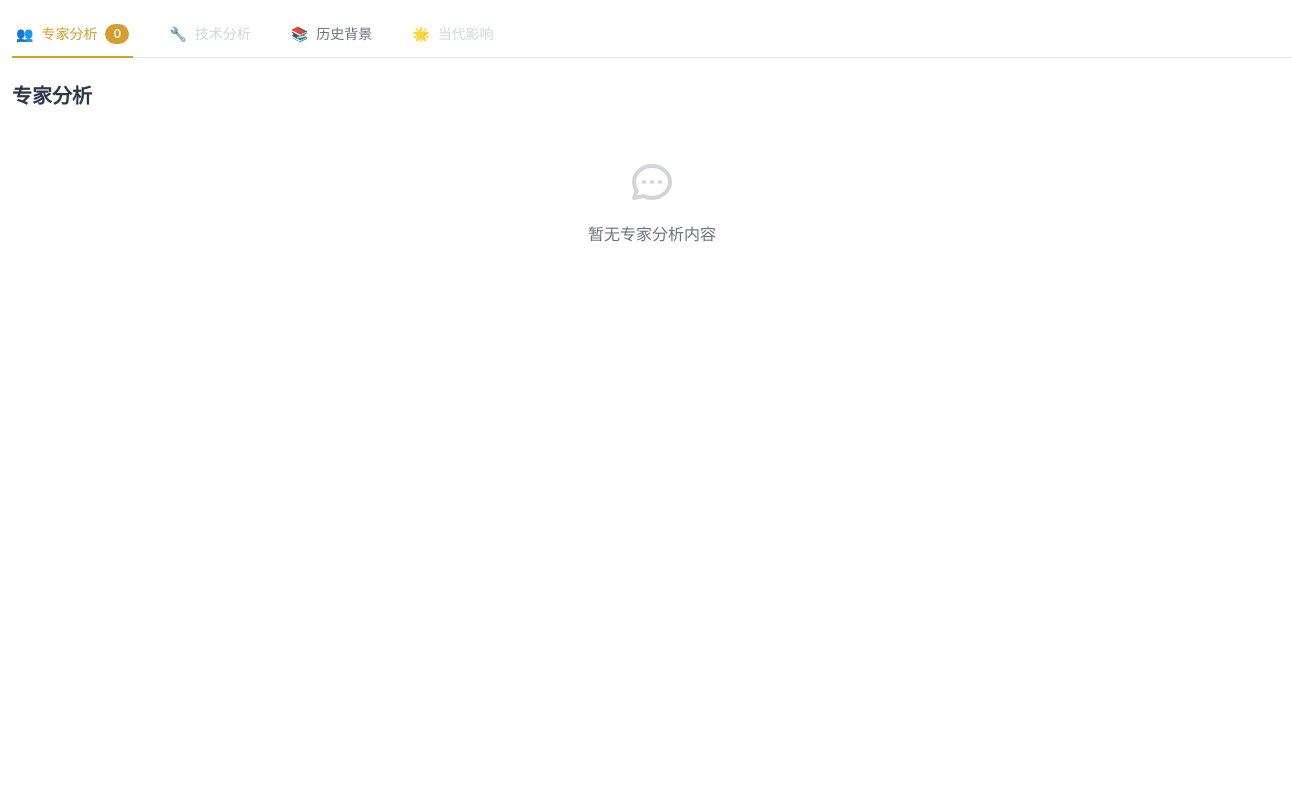
Test: ExpertCommentary › Historical Context Display › renders historical context when provided
Click the text "历史背景" at point(344, 34), box 316,24 -> 372,44
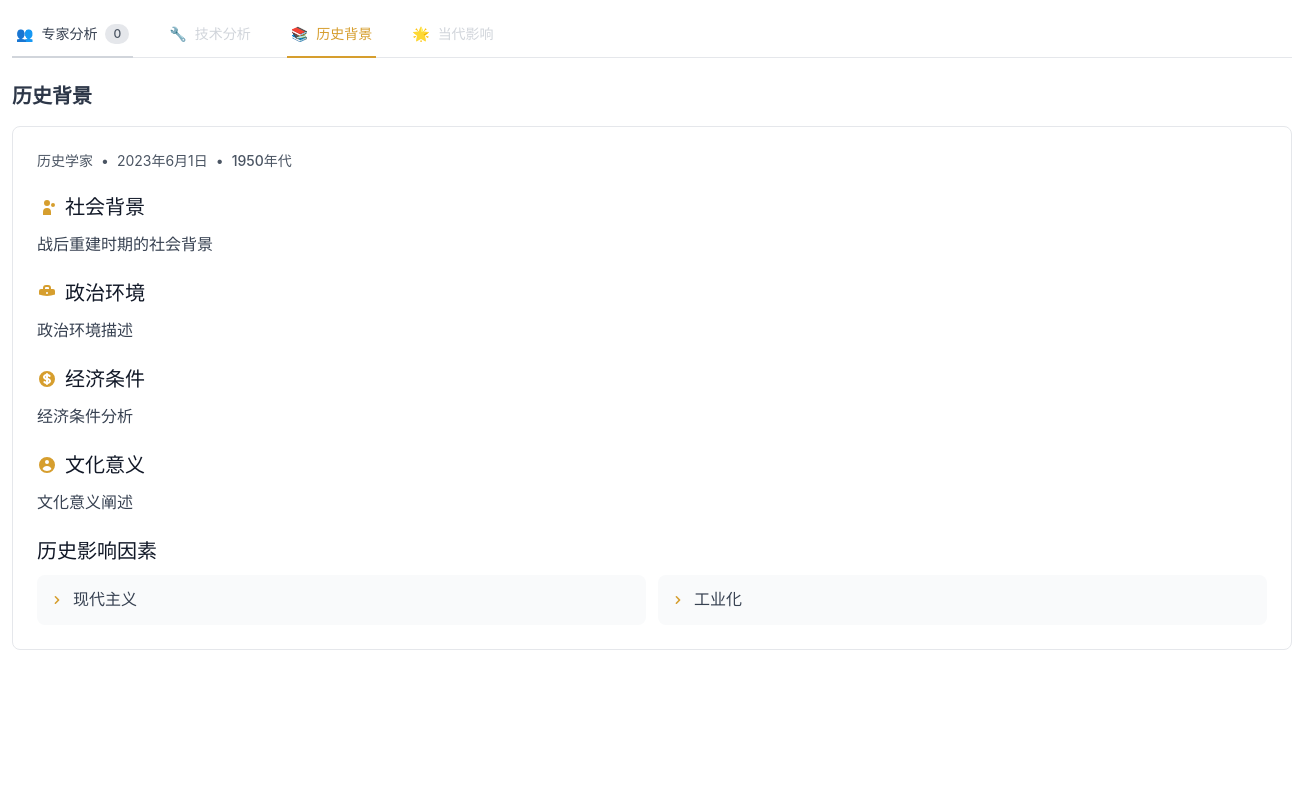
Expected: the text "历史学家" is shown, 37,151 -> 93,171
Expected: the text "1950年代" is shown, 232,151 -> 292,171
